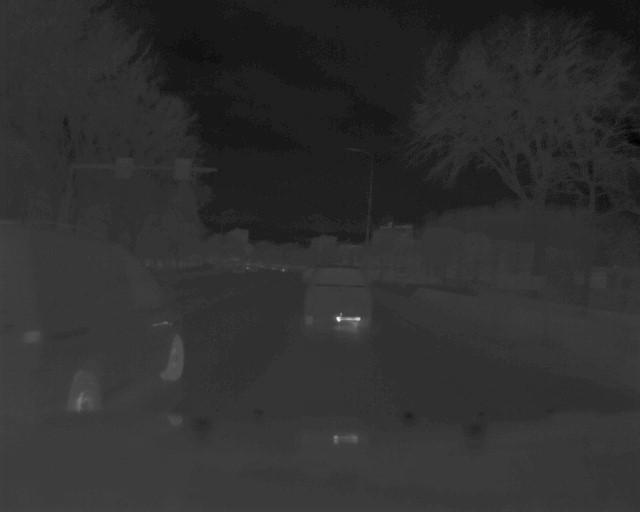car: (1, 225, 187, 409), (304, 267, 376, 337)
